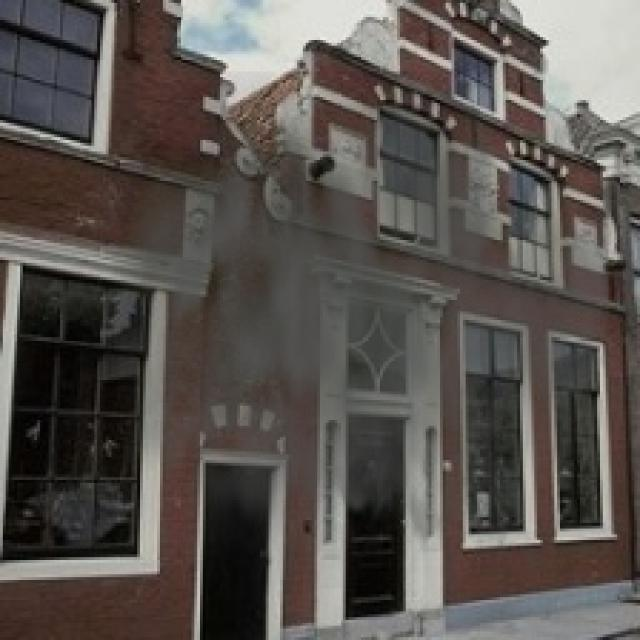smoke: (86, 71, 608, 608)
